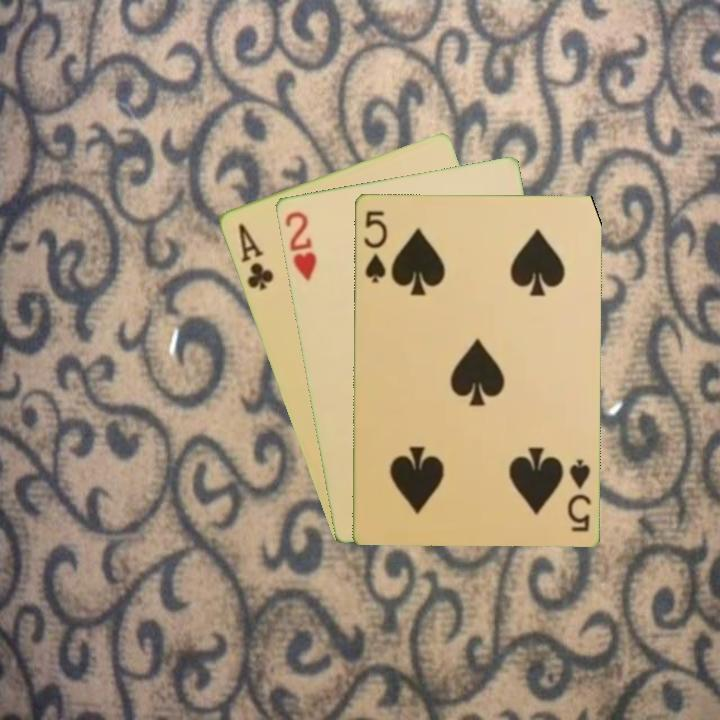2h: (281, 207, 319, 283)
5s: (359, 206, 390, 286), (564, 455, 593, 534)
Ac: (234, 219, 276, 293)
